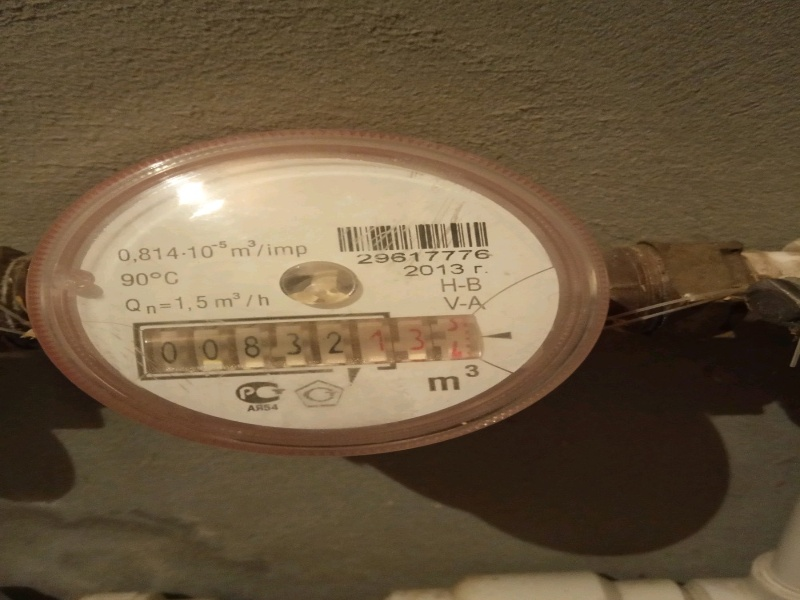meter: (139, 330, 471, 367)
